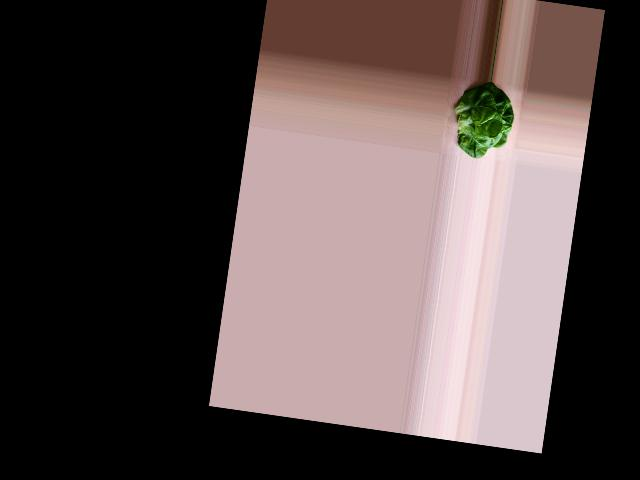lettuce: (451, 79, 518, 160)
